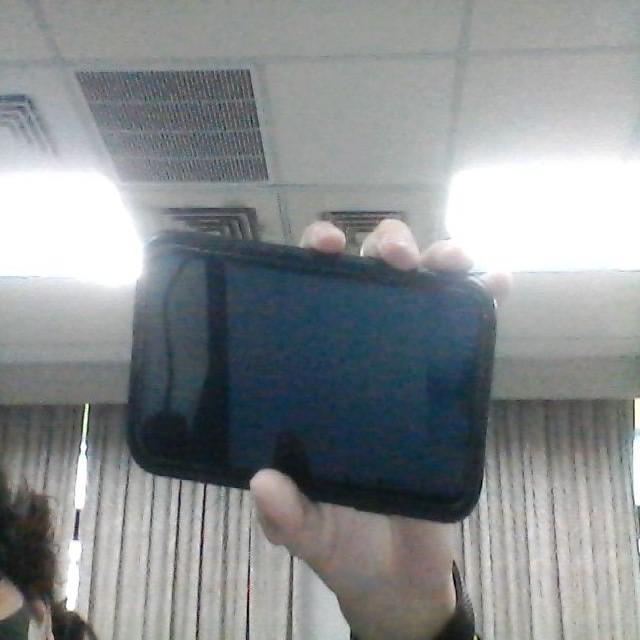Phone: (124, 226, 502, 528)
